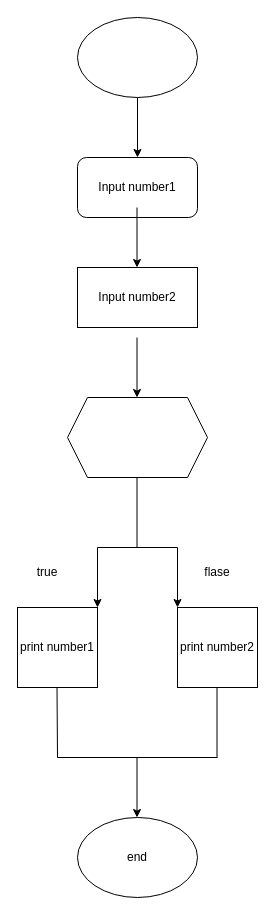
Some shapes in this 275 by 915 pixel diagram are drawn without their labels. The shapes that lost their labels are listed below. From the top down, each one's centre as x and y in pixels, then its label:
At [137,57]: "Start".
At [137,437]: "number1 > number2".
